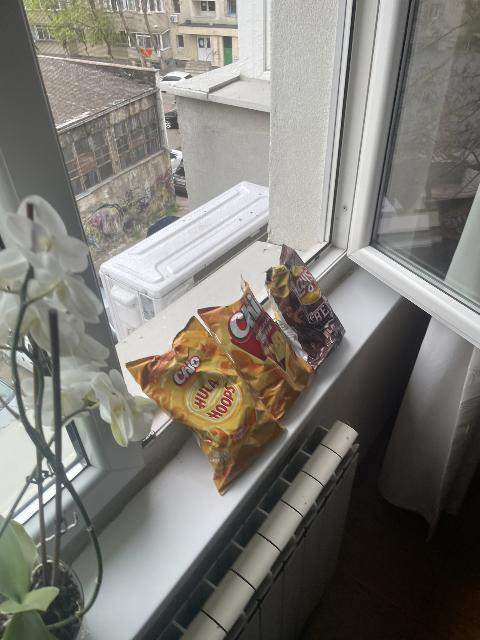Chio Cascaval 125g: (198, 272, 316, 426)
Chio Hula Hoops Cheese 70g: (128, 316, 282, 495)
Lays Beef Grilled Ribs 125g: (270, 249, 350, 364)
